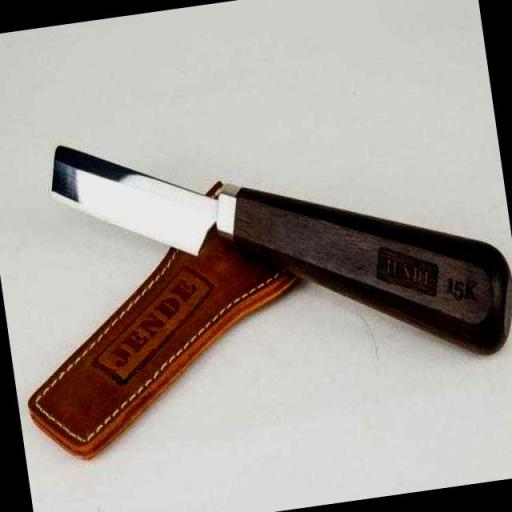knife: (35, 66, 512, 458)
